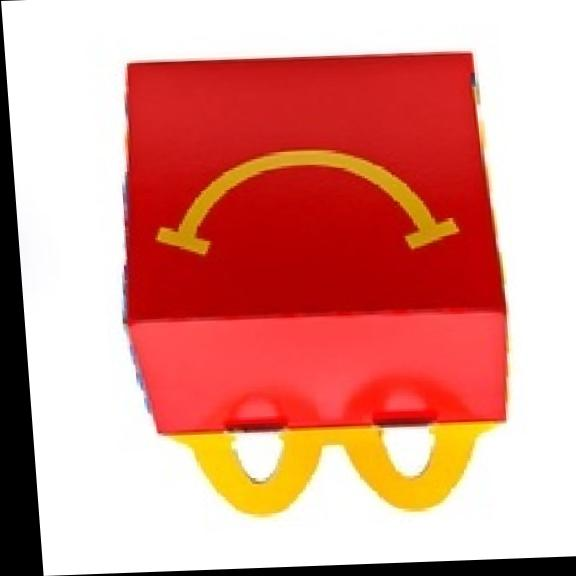Kertas: (125, 55, 507, 514)
